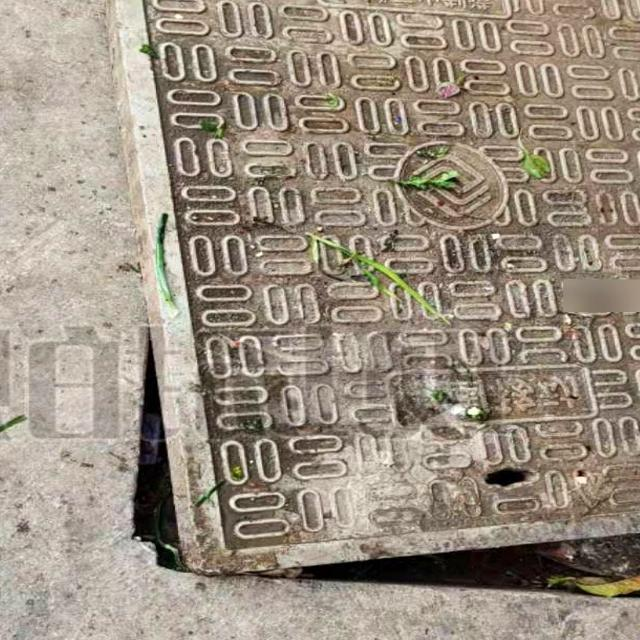uncovered: (80, 0, 640, 597)
